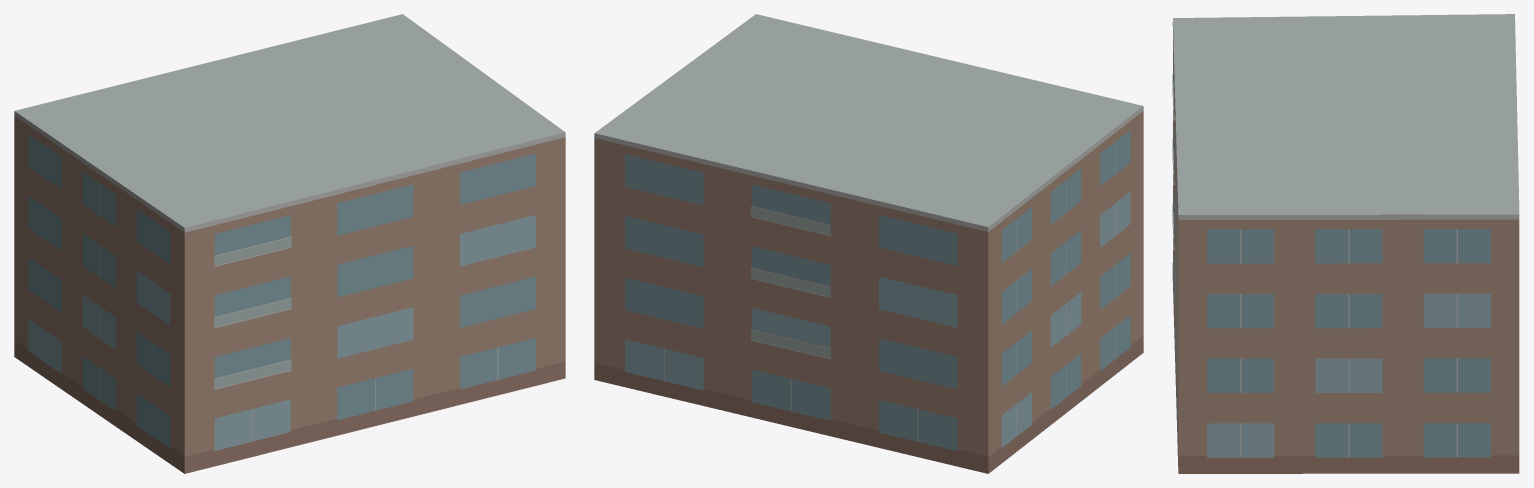
Rendered from survey-upis-32592993.glb.
3 renders of one model, left to right at view 1: azimuth 30°, elevation 25°; view 2: azimuth 150°, elevation 25°; view 3: azimuth 270°, elevation 25°, orthographic. The views are drawn at different scales.
Visible parts, largest first — view 1: survey-upis-32592993.tmp; view 2: survey-upis-32592993.tmp; view 3: survey-upis-32592993.tmp.
Boxes of the visible parts, box(x1,y1,x2,y2) form: survey-upis-32592993.tmp: box(14, 14, 565, 473); survey-upis-32592993.tmp: box(594, 14, 1143, 473); survey-upis-32592993.tmp: box(1172, 14, 1519, 473).
Size of the model in its own units: 20.83 by 12.5 by 15.2.
